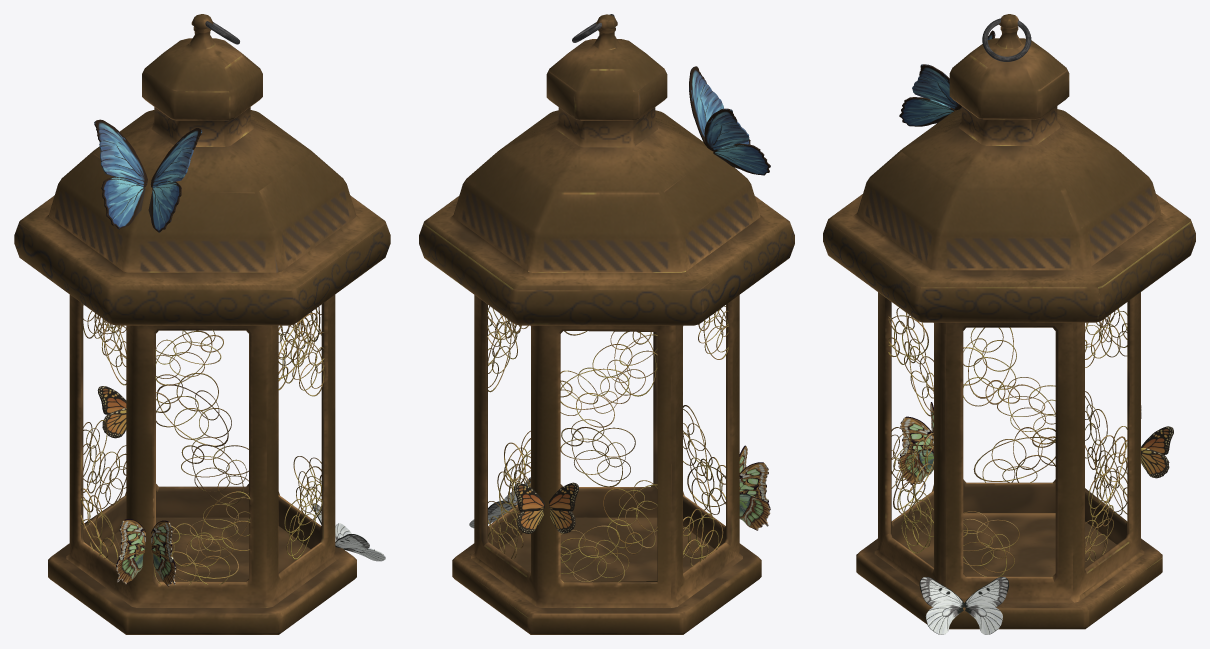
Rendered from Kim lantarn 2.fbx.
The picture shows the model from 3 angles, left to right: view 1: azimuth 30°, elevation 25°; view 2: azimuth 150°, elevation 25°; view 3: azimuth 270°, elevation 25°; orthographic projection.
Visible parts, largest first — view 1: Cube.109; view 2: Cube.109; view 3: Cube.109.
Boxes of the visible parts, <box> form: Cube.109: <box>14,14,390,634</box>; Cube.109: <box>419,14,794,634</box>; Cube.109: <box>823,14,1195,634</box>.
Bounding box in the file's own units: 785 × 1478 × 893.
